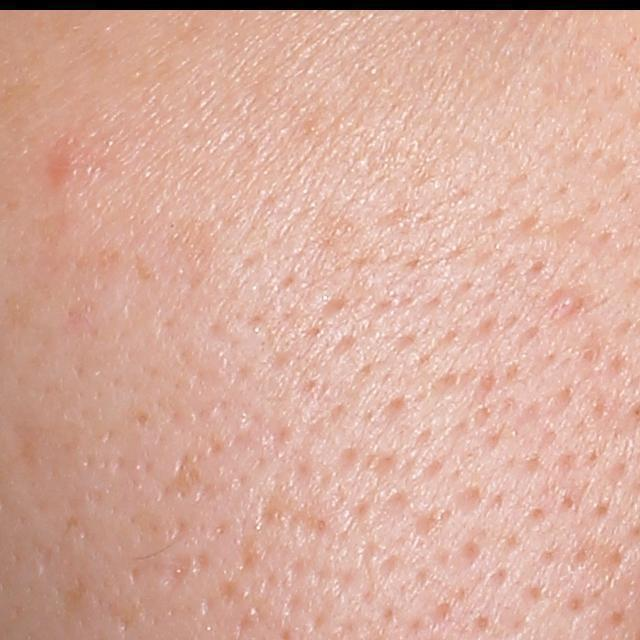atrophic_scar: (254, 491, 322, 537), (154, 452, 203, 504), (158, 548, 192, 593)
